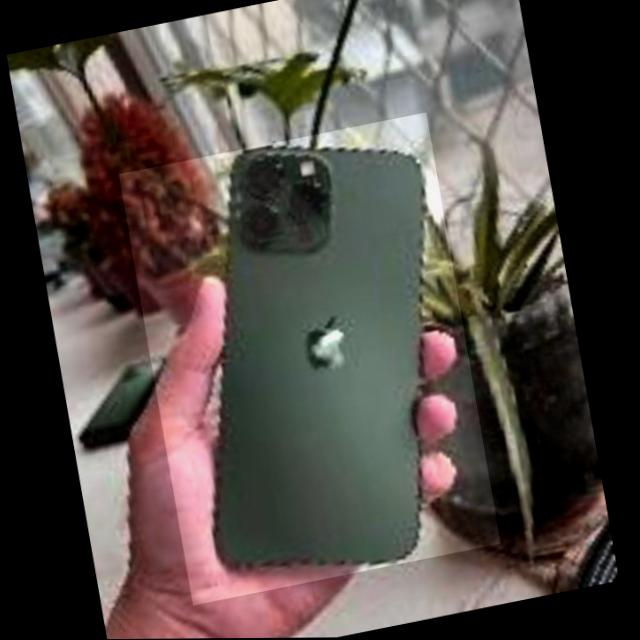Smartphone: (207, 145, 431, 580)
